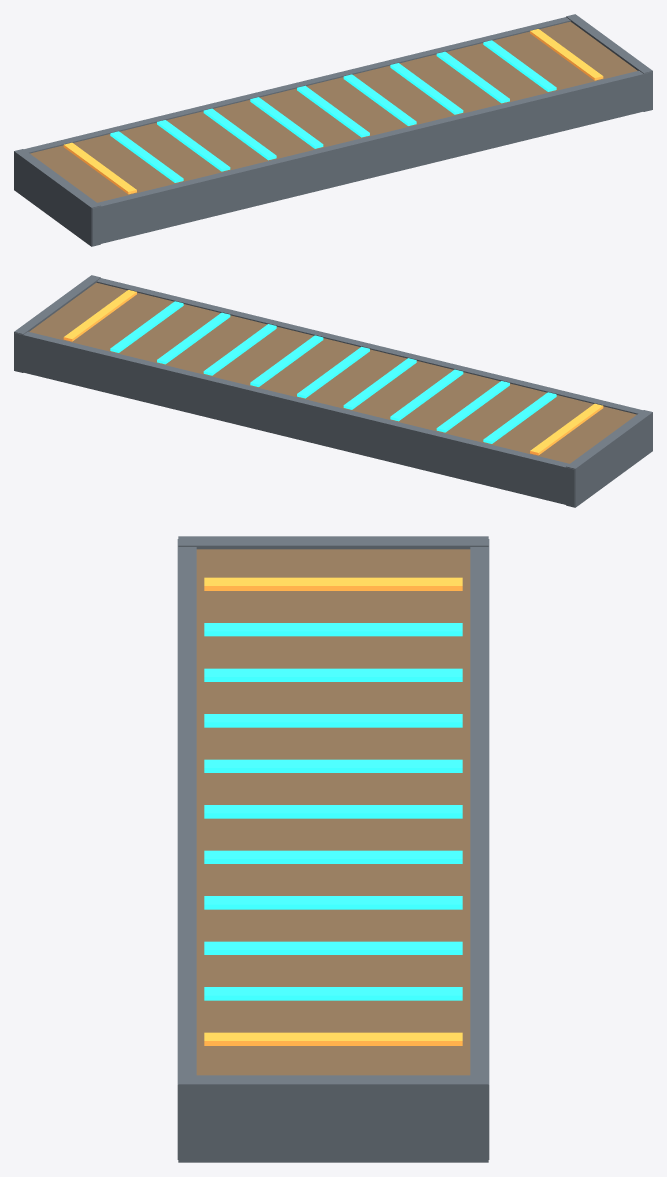
Rendered from plank.glb.
3 views of the same model, one above another, from view 1: azimuth 30°, elevation 25°; view 2: azimuth 150°, elevation 25°; view 3: azimuth 270°, elevation 25° (orthographic). The views are drawn at different scales.
Visible parts, largest first — view 1: PlankBoard, PlankEdgeL, PlankEndCapL, PlankEdgeR, PlankEndCapR, PlankGripStripe_07, PlankGripStripe_08, PlankGripStripe_01, PlankGripStripe_02, PlankGripStripe_03, PlankGripStripe_09, PlankGripStripe_10 (+4 smaller); view 2: PlankBoard, PlankEdgeR, PlankEndCapL, PlankEdgeL, PlankEndCapR, PlankGripStripe_07, PlankGripStripe_08, PlankGripStripe_01, PlankGripStripe_02, PlankGripStripe_03, PlankGripStripe_09, PlankGripStripe_10 (+4 smaller); view 3: PlankBoard, PlankEndCapR, PlankEdgeL, PlankEdgeR, PlankEndCapL, PlankGripStripe_01, PlankGripStripe_02, PlankGripStripe_03, PlankGripStripe_04, PlankGripStripe_05, PlankGripStripe_06, PlankGripStripe_07 (+4 smaller).
Part boxes in pixels (<box>): PlankBoard: <box>30,21,637,202</box>; PlankEdgeL: <box>92,70,652,245</box>; PlankEndCapL: <box>14,149,100,246</box>; PlankEdgeR: <box>24,17,570,153</box>; PlankEndCapR: <box>566,14,652,111</box>; PlankGripStripe_07: <box>343,74,416,125</box>; PlankGripStripe_08: <box>390,63,463,114</box>; PlankGripStripe_01: <box>63,142,136,194</box>; PlankGripStripe_02: <box>110,131,183,182</box>; PlankGripStripe_03: <box>157,120,230,171</box>; PlankGripStripe_09: <box>436,51,509,103</box>; PlankGripStripe_10: <box>483,40,556,91</box>; PlankBoard: <box>29,282,636,463</box>; PlankEdgeR: <box>14,331,574,506</box>; PlankEndCapL: <box>566,410,652,507</box>; PlankEdgeL: <box>96,278,642,414</box>; PlankEndCapR: <box>14,275,100,372</box>; PlankGripStripe_07: <box>250,335,323,386</box>; PlankGripStripe_08: <box>203,324,276,375</box>; PlankGripStripe_01: <box>530,403,603,455</box>; PlankGripStripe_02: <box>483,392,556,443</box>; PlankGripStripe_03: <box>436,381,509,432</box>; PlankGripStripe_09: <box>157,312,230,364</box>; PlankGripStripe_10: <box>110,301,183,352</box>; PlankBoard: <box>196,549,470,1075</box>; PlankEndCapR: <box>178,1075,488,1162</box>; PlankEdgeL: <box>177,539,196,1159</box>; PlankEdgeR: <box>470,539,489,1159</box>; PlankEndCapL: <box>178,536,488,549</box>; PlankGripStripe_01: <box>204,577,462,590</box>; PlankGripStripe_02: <box>204,623,462,636</box>; PlankGripStripe_03: <box>204,668,462,681</box>; PlankGripStripe_04: <box>204,714,462,727</box>; PlankGripStripe_05: <box>204,759,462,772</box>; PlankGripStripe_06: <box>204,805,462,818</box>; PlankGripStripe_07: <box>204,850,462,863</box>.
Bounding box in the file's own units: 3.01 × 0.248 × 0.724.
